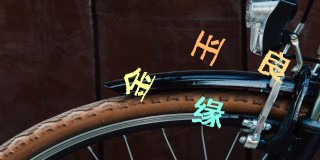玉: (188, 30, 225, 68)
缘: (192, 96, 224, 128)
良: (257, 48, 291, 83)
金: (122, 66, 156, 102)
